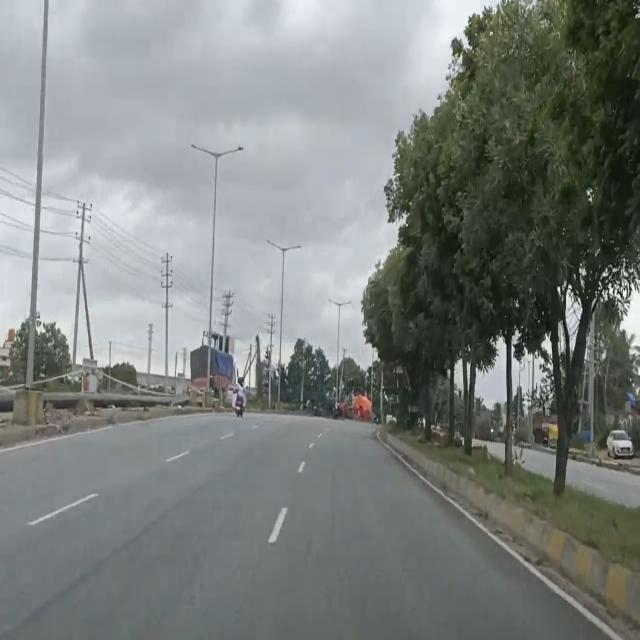bien_cam: (391, 351, 404, 377)
